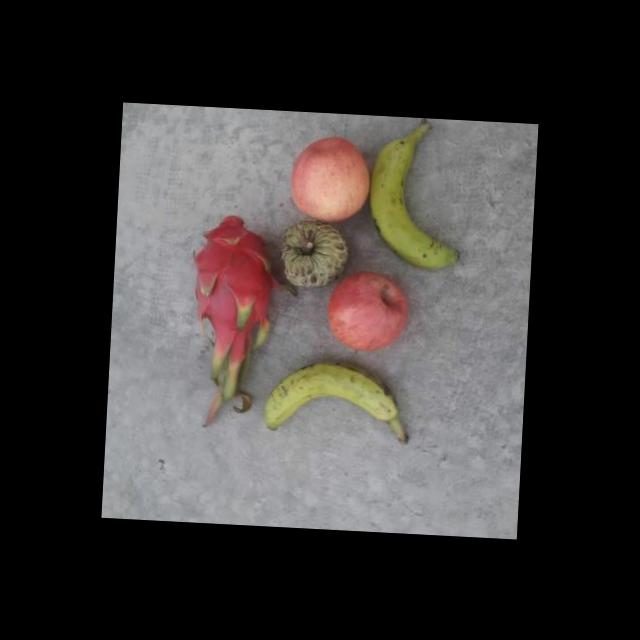Sakya fruit: (274, 215, 354, 291)
apple: (288, 131, 370, 222), (325, 268, 408, 346)
banana: (260, 353, 413, 460), (365, 128, 462, 272)
pitaya: (190, 210, 278, 350)
